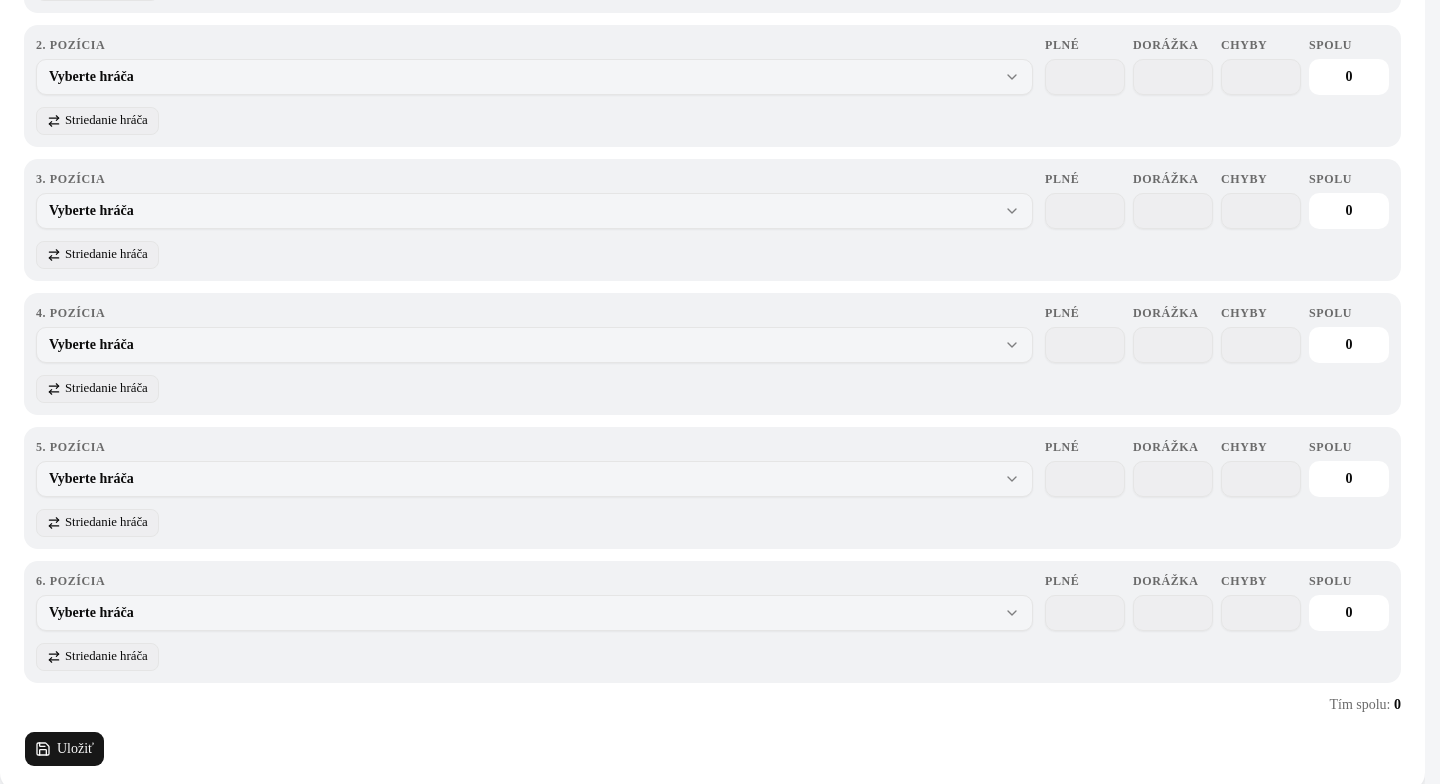
saving › renders the incomplete-positions error
(page scrolled)
Click the button "Uložiť": (65, 749) [24, 731, 105, 767]
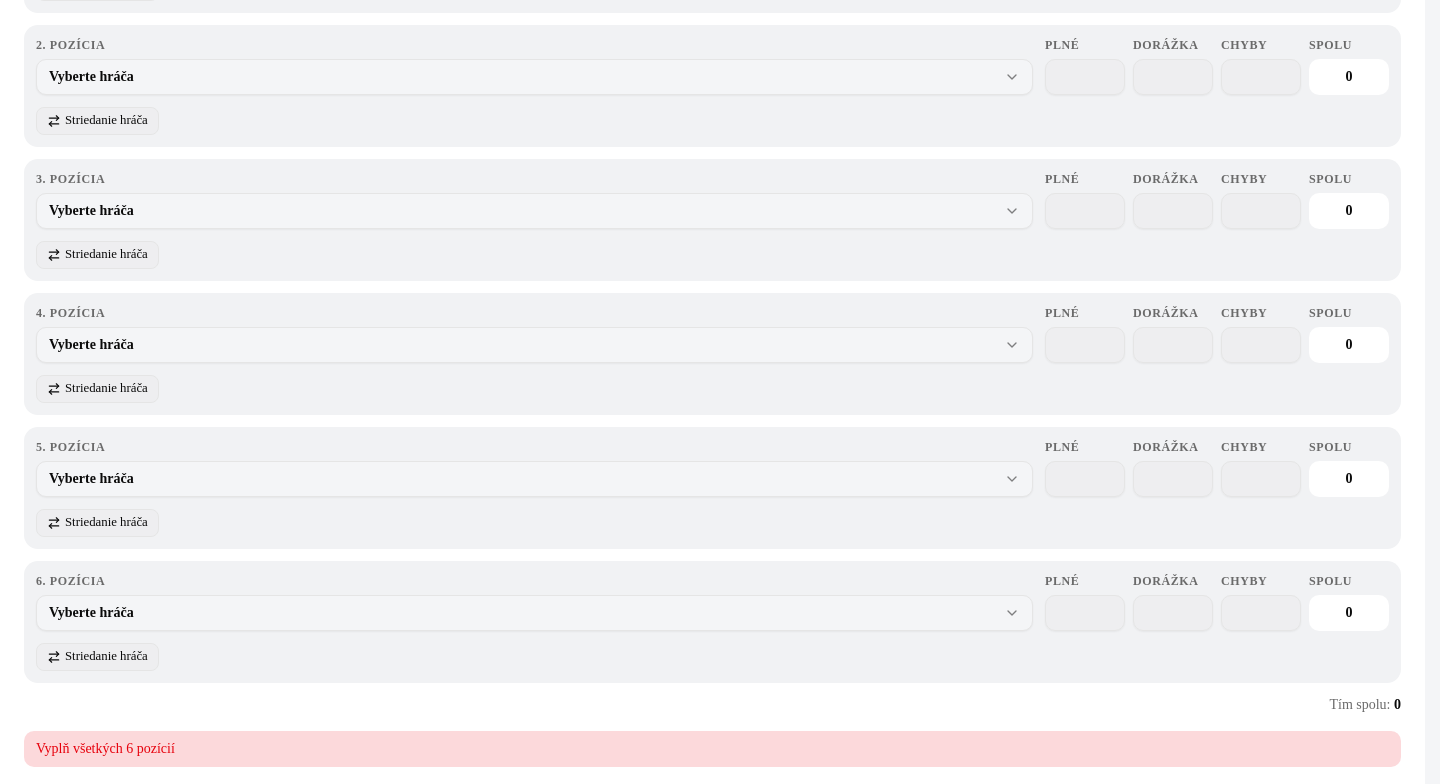
Expected: the text "Vyplň všetkých 6 pozícií" is shown, [24, 731, 1401, 767]
